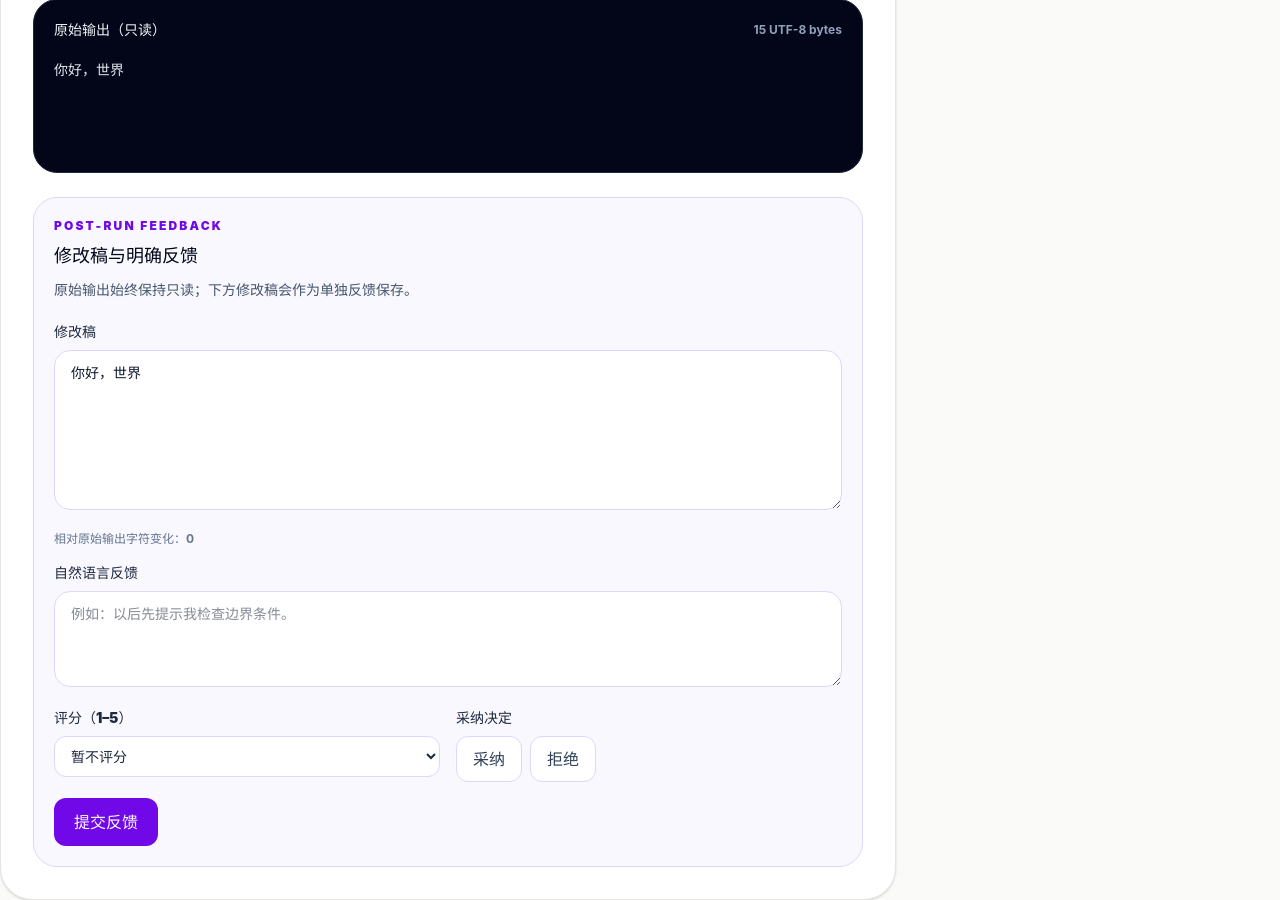
Day 2 G1 owner flow › preserves failed feedback input and reuses its idempotency key on retry
The width and height of the screenshot is (1280, 900).
(page scrolled)
Type "这段输入失败后必须保留" into the text box labelled "自然语言反馈" at (448, 639), box [54, 591, 842, 687]
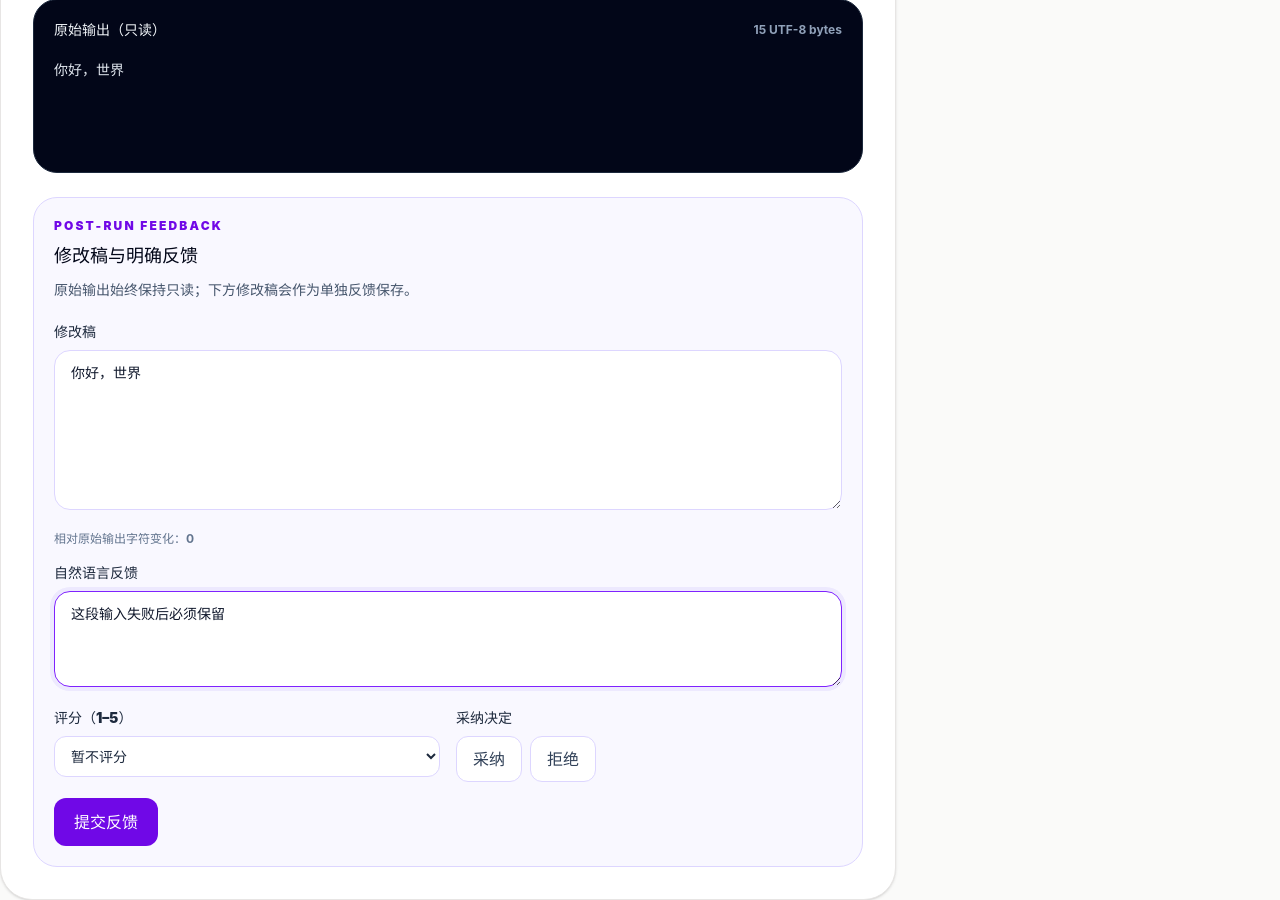
Click the button "提交反馈" at (106, 822), box [54, 798, 158, 846]
(page scrolled)
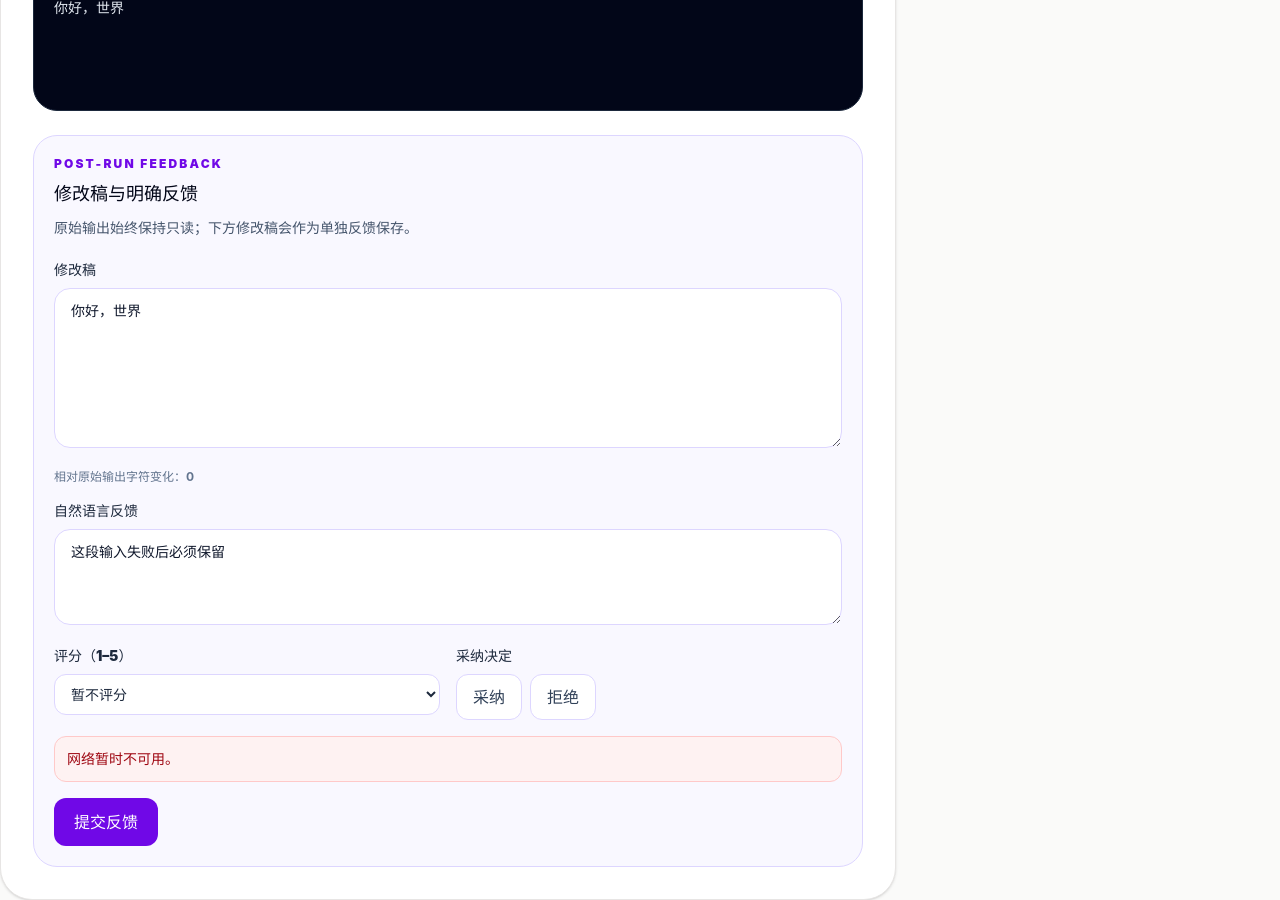
Check: the message reads "网络暂时不可用。", box [67, 750, 179, 767]
Click the button "提交反馈" at (106, 822), box [54, 798, 158, 846]
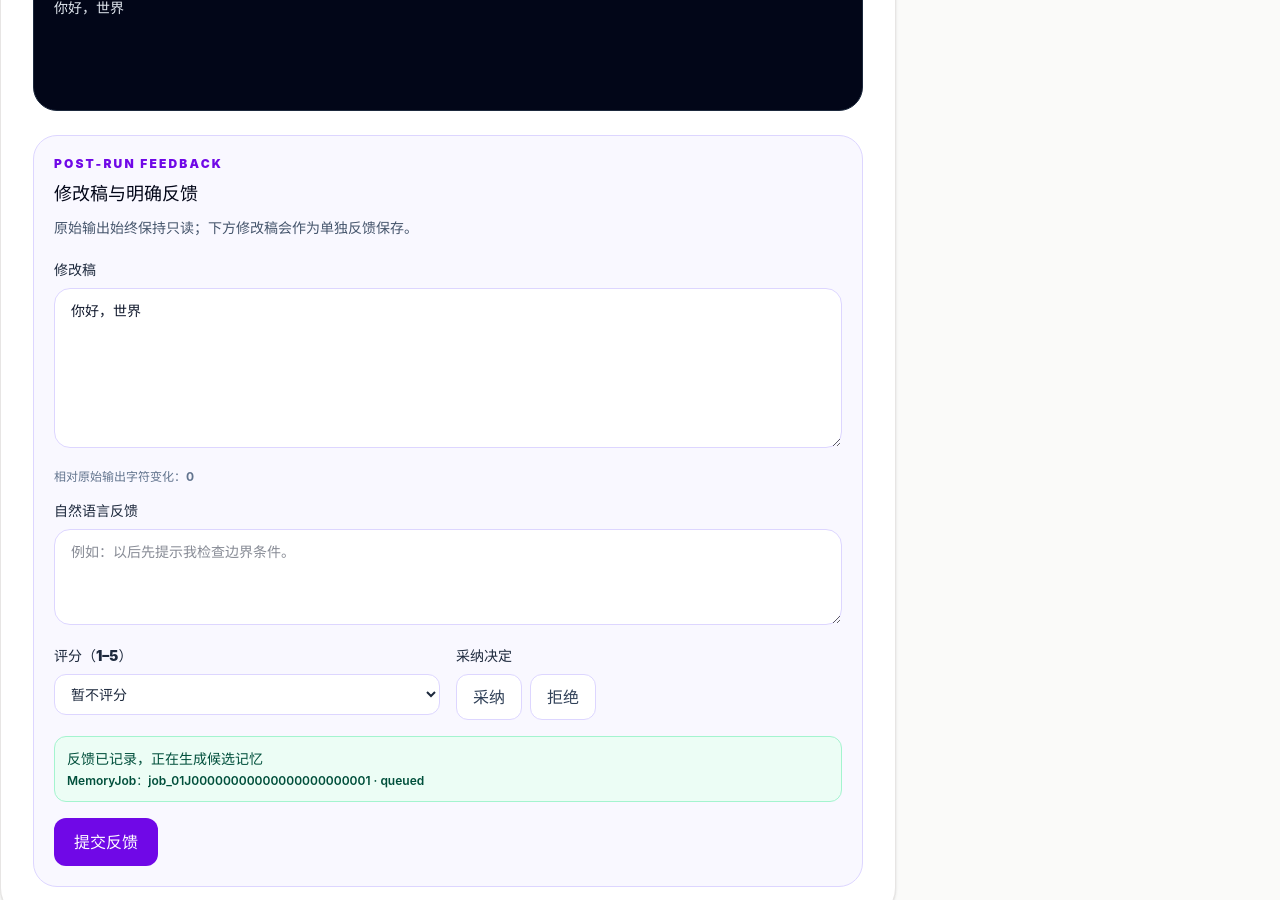
Check: the text "反馈已记录，正在生成候选记忆" is shown, box [67, 750, 263, 767]
